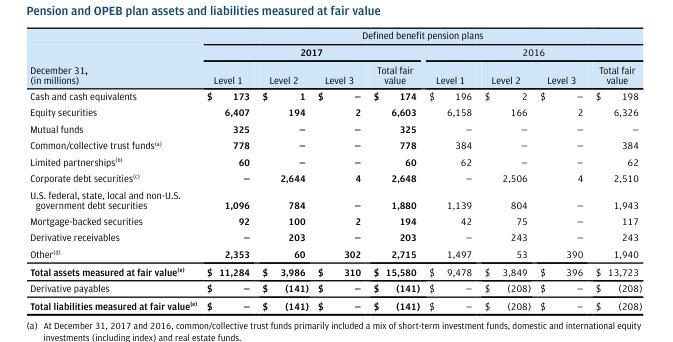table: (29, 28, 641, 311)
table column: (29, 28, 201, 311), (255, 28, 312, 311), (366, 28, 423, 311), (477, 28, 534, 311), (201, 28, 255, 311), (312, 28, 366, 311), (423, 28, 477, 311), (534, 28, 588, 311), (588, 28, 641, 311)
table column header: (29, 28, 641, 87)
table row: (29, 60, 641, 87), (29, 185, 641, 212), (29, 43, 641, 60), (29, 103, 641, 120), (29, 152, 641, 169), (29, 228, 641, 245), (29, 245, 641, 262), (29, 262, 641, 279), (29, 279, 641, 296), (29, 87, 641, 103), (29, 120, 641, 136), (29, 136, 641, 152), (29, 169, 641, 185), (29, 212, 641, 228), (29, 28, 641, 43), (29, 296, 641, 311)
table spanning cell: (29, 28, 201, 87), (201, 28, 641, 43), (201, 43, 423, 60), (423, 43, 641, 60)
